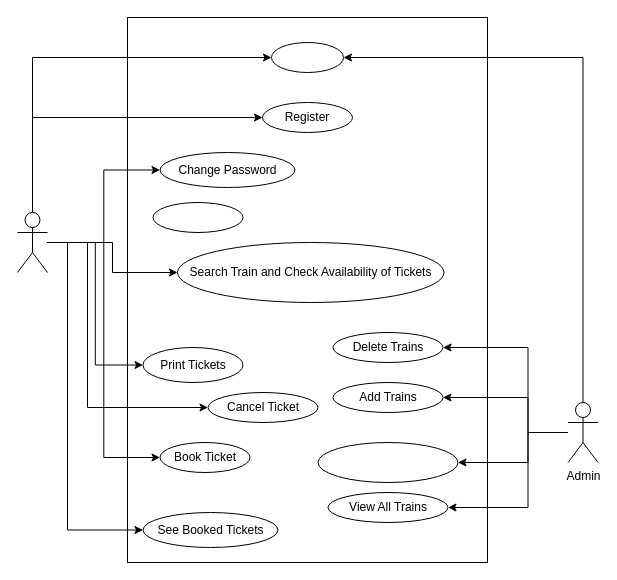
Image size: 617x580. Some labels were removed from this diagram. The shapes that lost their labels are listed below. From the top down, each one's box as (x1, y1, x2, y2) in pixels, then its label:
(270, 42, 344, 72): Login
(152, 202, 243, 232): Check Fare
(16, 212, 48, 272): User
(317, 442, 458, 482): View All Bookings
